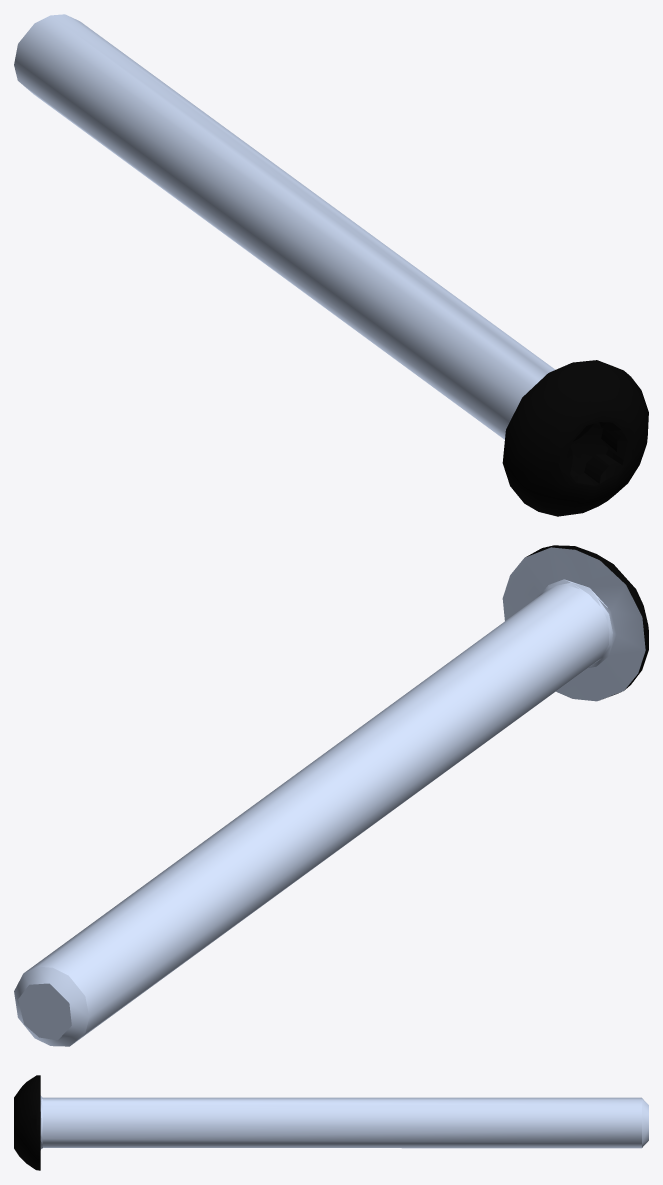
The model's file is Colored__8-32_x_2_000_Star_Drive_Screw__276-5004__001.glb.
3 views of the same model, one above another, from view 1: azimuth 30°, elevation 25°; view 2: azimuth 150°, elevation 25°; view 3: azimuth 270°, elevation 25° (orthographic). The views are drawn at different scales.
Parts seen in each view (by area): view 1: Colored #8-32 x 2.000 Star Drive Screw (276-5004).001; view 2: Colored #8-32 x 2.000 Star Drive Screw (276-5004).001; view 3: Colored #8-32 x 2.000 Star Drive Screw (276-5004).001.
Boxes of the visible parts, x1,y1,x2,y2 form: Colored #8-32 x 2.000 Star Drive Screw (276-5004).001: (14, 14, 648, 516); Colored #8-32 x 2.000 Star Drive Screw (276-5004).001: (14, 545, 648, 1046); Colored #8-32 x 2.000 Star Drive Screw (276-5004).001: (14, 1075, 648, 1170).
Size of the model in its own units: 0.3123 by 0.3131 by 2.09.
